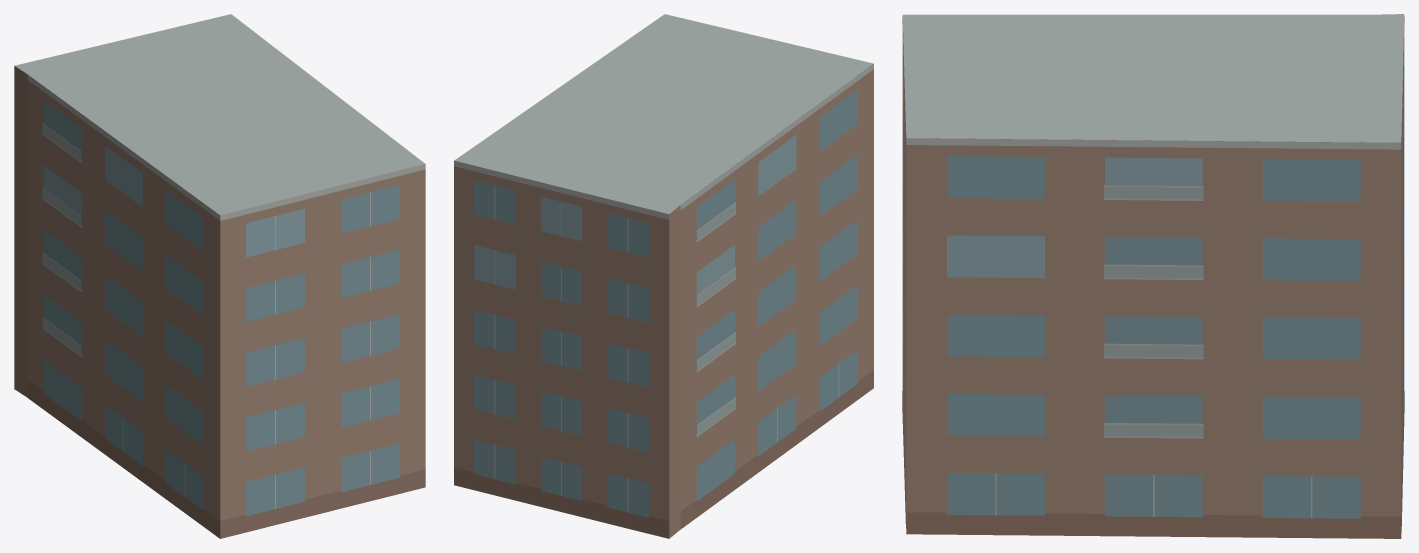
The model's file is survey-upis-32642308.glb.
3 views of the same model, side by side, from view 1: azimuth 30°, elevation 25°; view 2: azimuth 150°, elevation 25°; view 3: azimuth 270°, elevation 25° (orthographic). The views are drawn at different scales.
Visible parts, largest first — view 1: survey-upis-32642308.tmp; view 2: survey-upis-32642308.tmp; view 3: survey-upis-32642308.tmp.
Part boxes in pixels (x1=…): survey-upis-32642308.tmp: x1=14, y1=14, x2=425, y2=538; survey-upis-32642308.tmp: x1=454, y1=14, x2=873, y2=538; survey-upis-32642308.tmp: x1=902, y1=14, x2=1404, y2=538.
Size of the model in its own units: 9.91 by 14.2 by 16.31.
